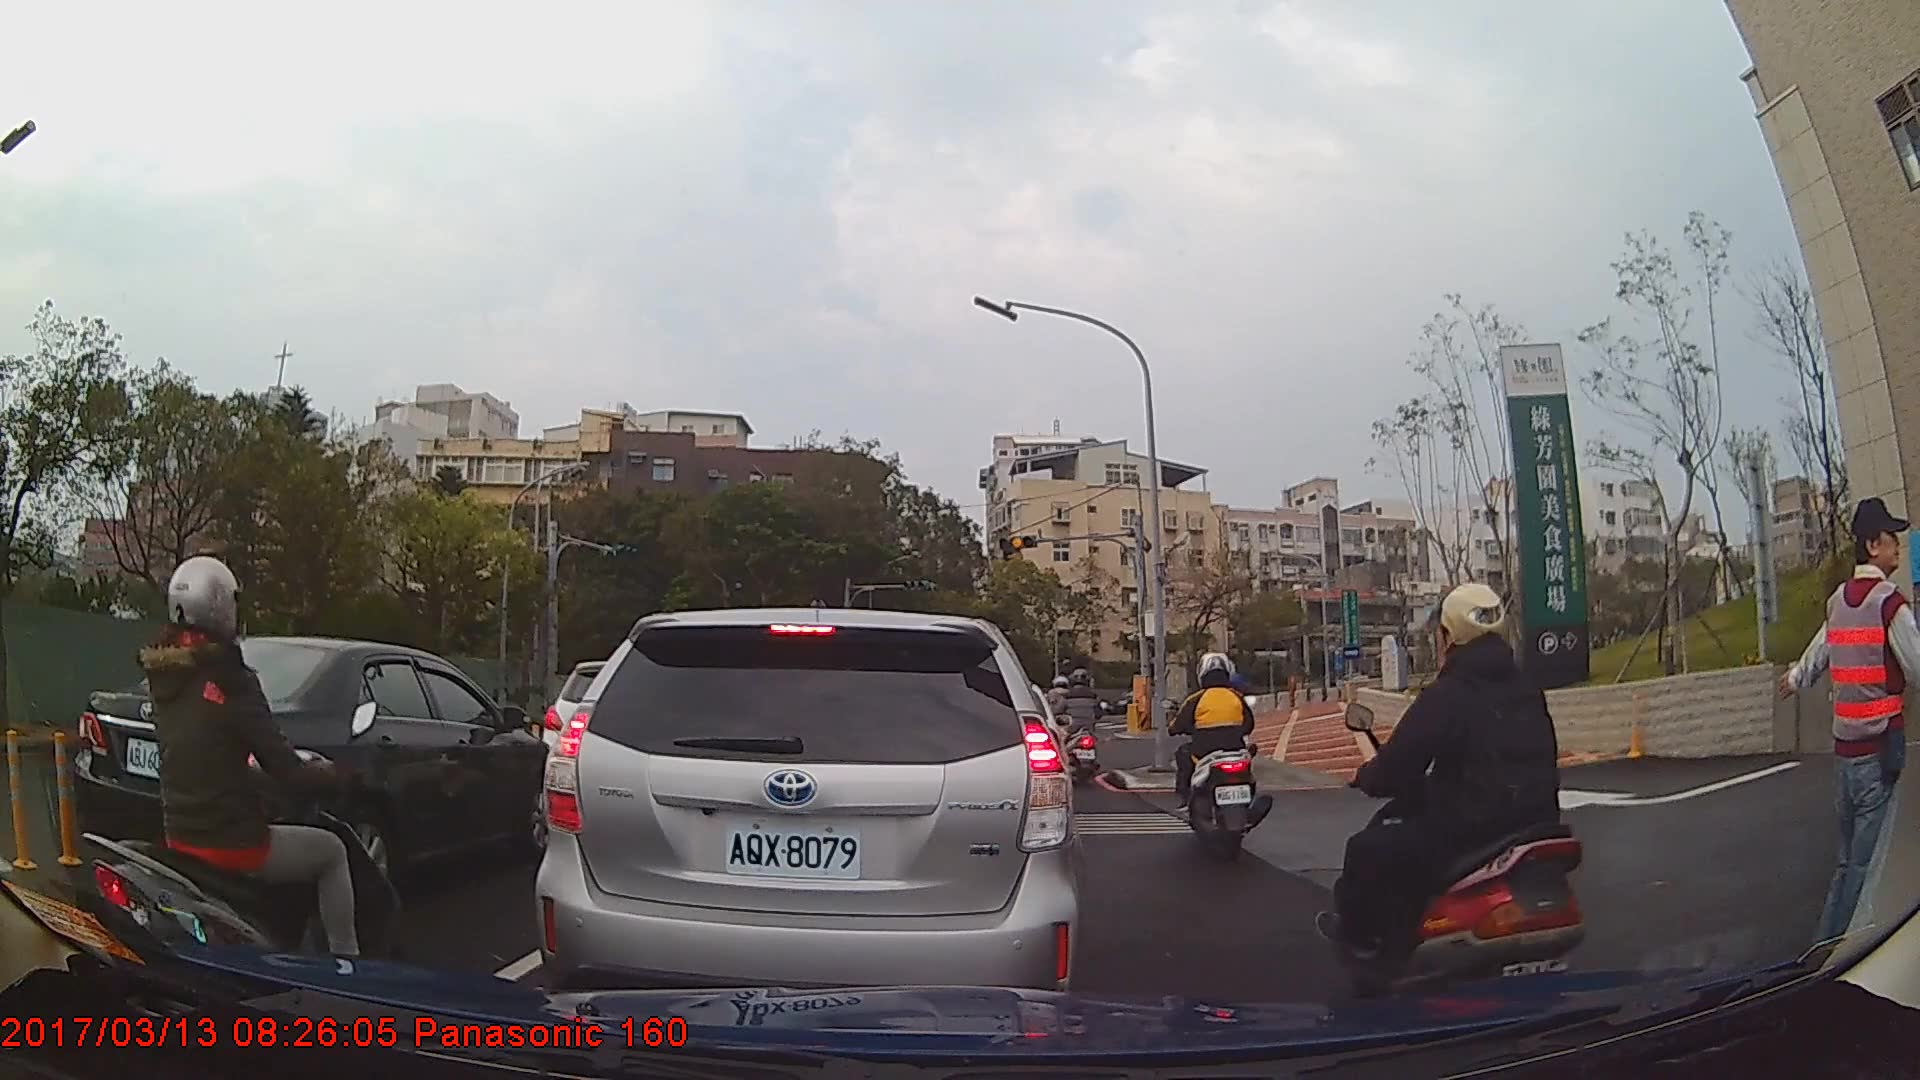pedestrian: (1774, 496, 1920, 979)
rider: (77, 555, 407, 1033), (1316, 578, 1589, 1042), (1168, 649, 1276, 871), (1057, 672, 1107, 787)
vehicle: (533, 605, 1084, 1020), (72, 633, 563, 907), (1097, 684, 1165, 717)
